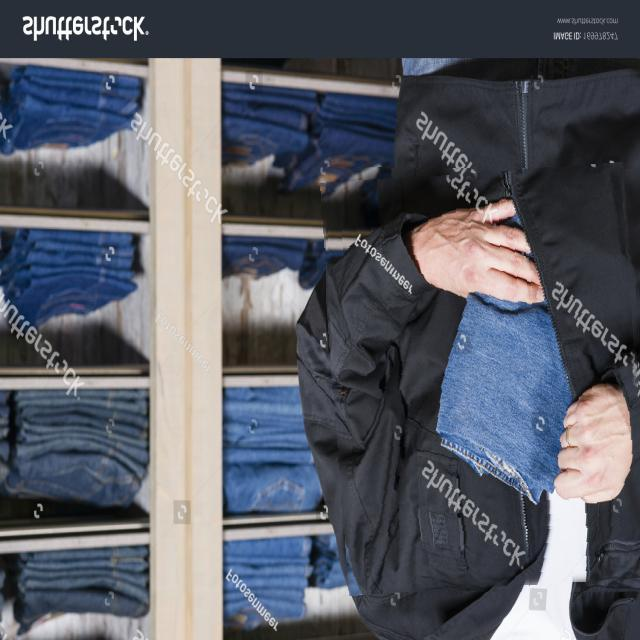Shoplifting: (326, 167, 640, 592)
